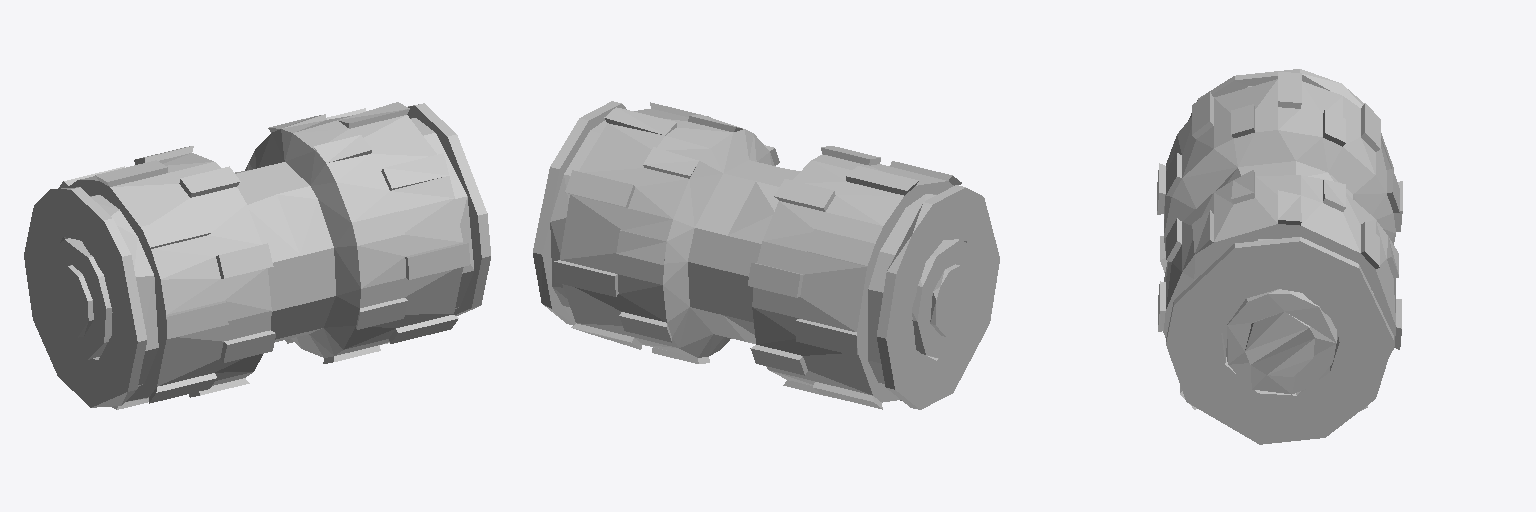
File: Kola_000013.obj
The picture shows the model from 3 angles: view 1: azimuth 30°, elevation 25°; view 2: azimuth 150°, elevation 25°; view 3: azimuth 270°, elevation 25°; orthographic projection.
Parts seen in each view (by area): view 1: Cylinder.004; view 2: Cylinder.004; view 3: Cylinder.004.
Part boxes in pixels (x1,y1,x2,y2): Cylinder.004: (24,102,490,409); Cylinder.004: (533,101,999,409); Cylinder.004: (1157,69,1402,444).
Bounding box in the file's own units: 2.17 × 1.25 × 1.25.